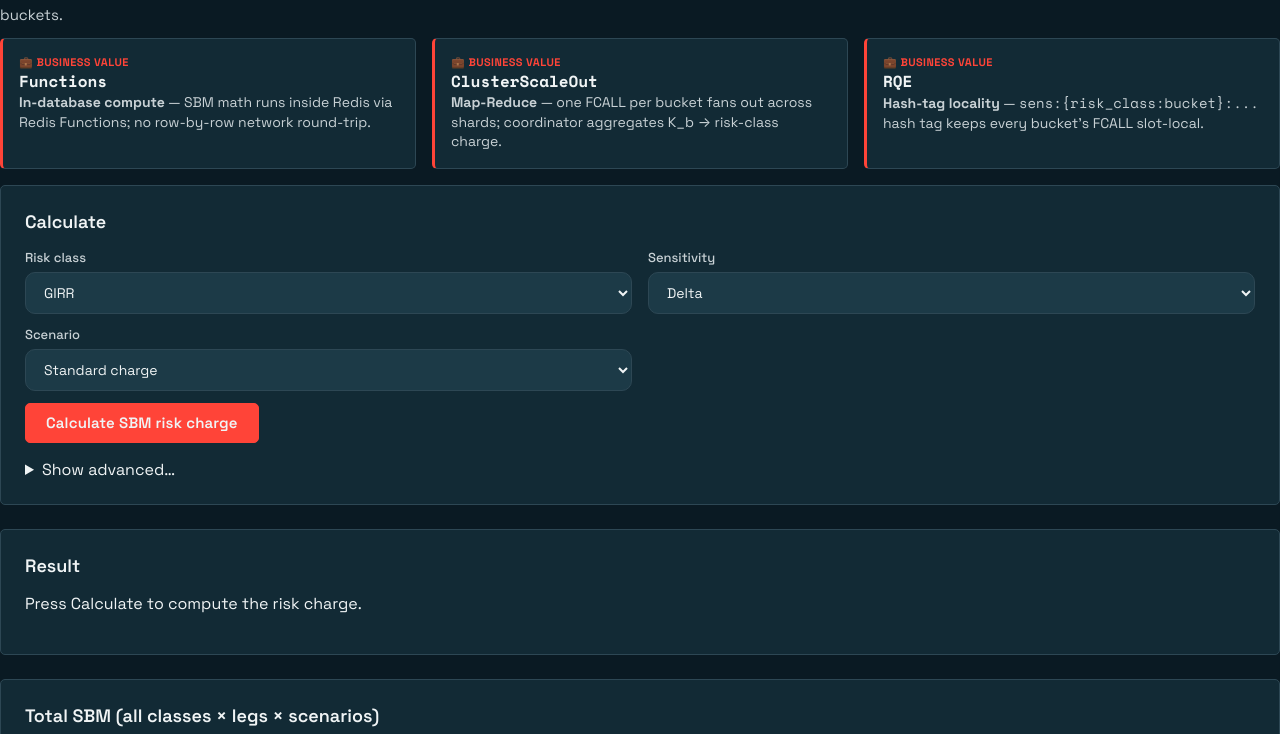
CalcPanel Wave 5.18 polish + drill-down › Clicking a bucket row opens a drill-down with the matching trade list
This screenshot has width=1280, height=734.
Click the button "Calculate SBM risk charge" at (142,423), box [25, 403, 259, 443]
(page scrolled)
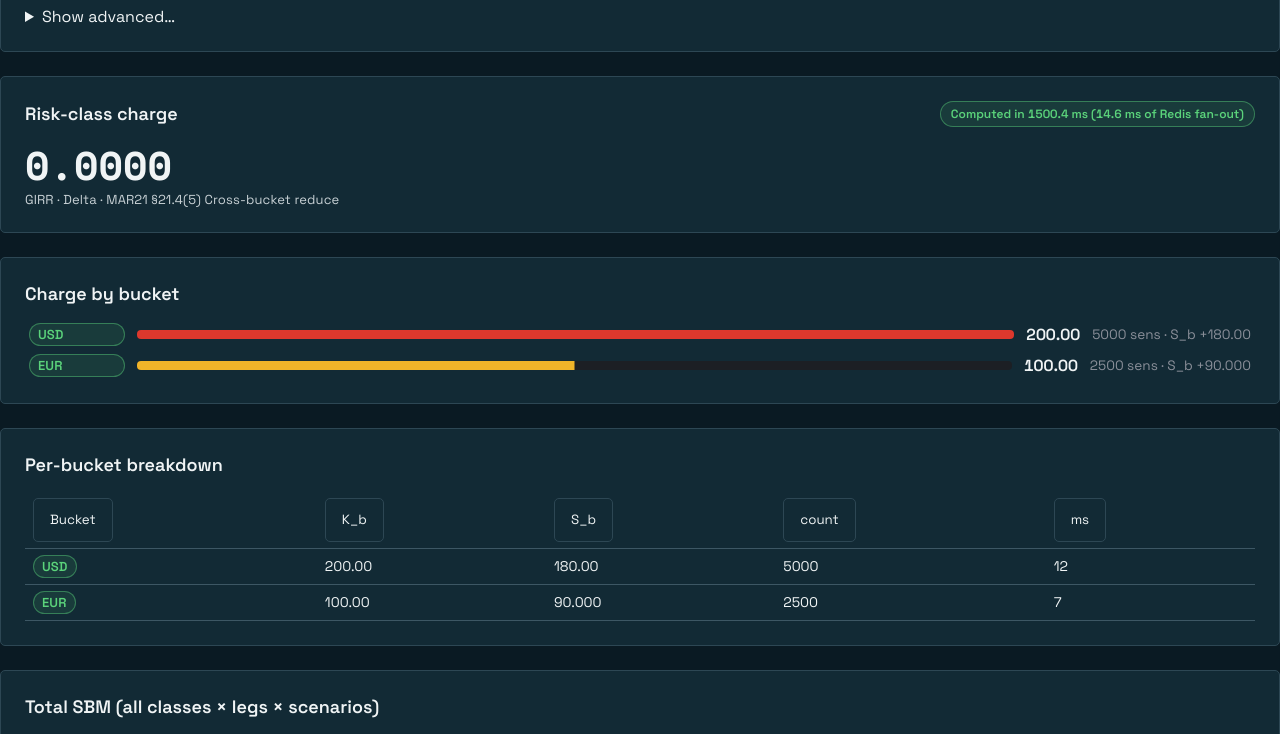
Now the text "0.0000" is shown, box [25, 143, 172, 187]
Click the button with test id "bucket-chart-row" that starts with "USD" at (640,334), box [25, 321, 1255, 348]
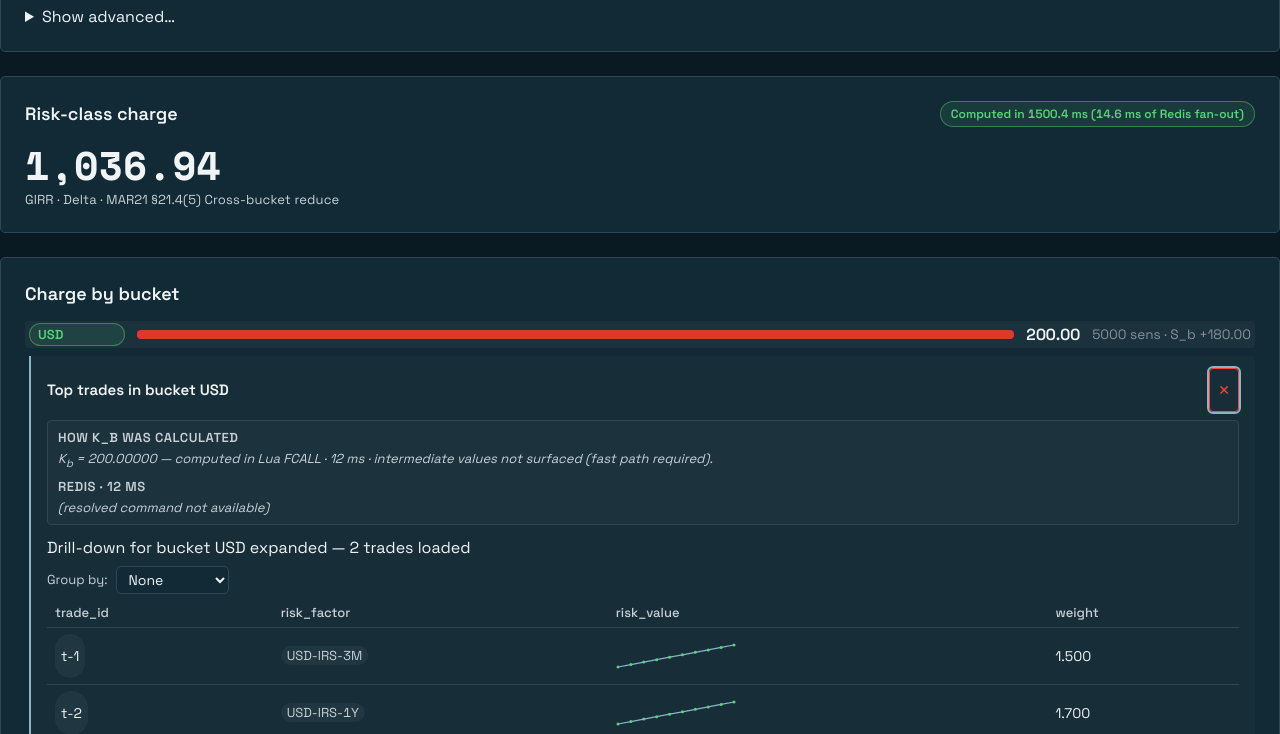
Now the button "t-1" is shown, box [55, 634, 85, 678]
Now the button "t-2" is shown, box [55, 691, 88, 733]
